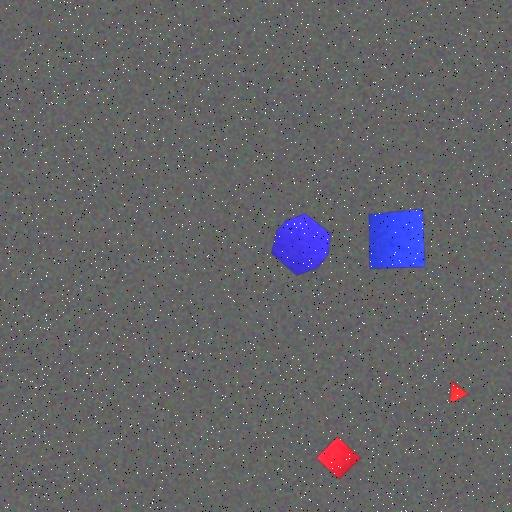BLUE_SQUARE: (368, 208, 426, 270)
RED_SQUARE: (315, 436, 362, 480)
